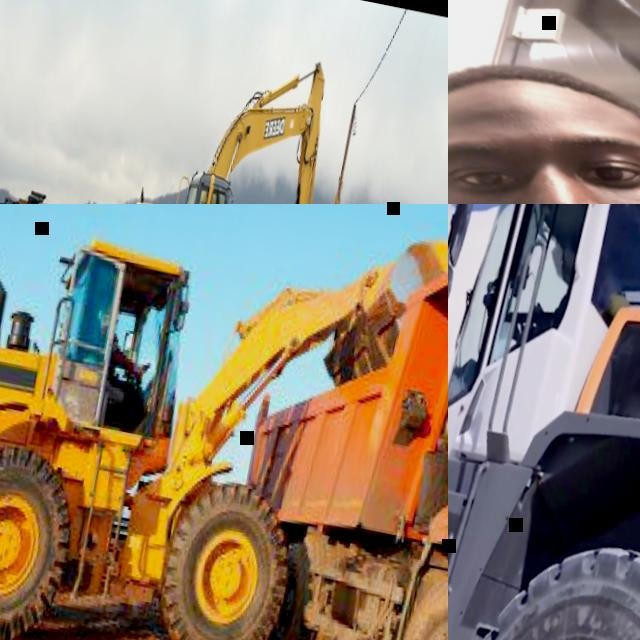NO-Hardhat: (448, 39, 640, 167)
NO-Safety Vest: (103, 331, 123, 378)
Person: (448, 18, 640, 204), (78, 310, 162, 435), (532, 248, 582, 333)
machinery: (0, 204, 448, 640), (197, 204, 448, 640), (448, 204, 640, 640), (88, 19, 351, 204), (0, 181, 61, 204)
